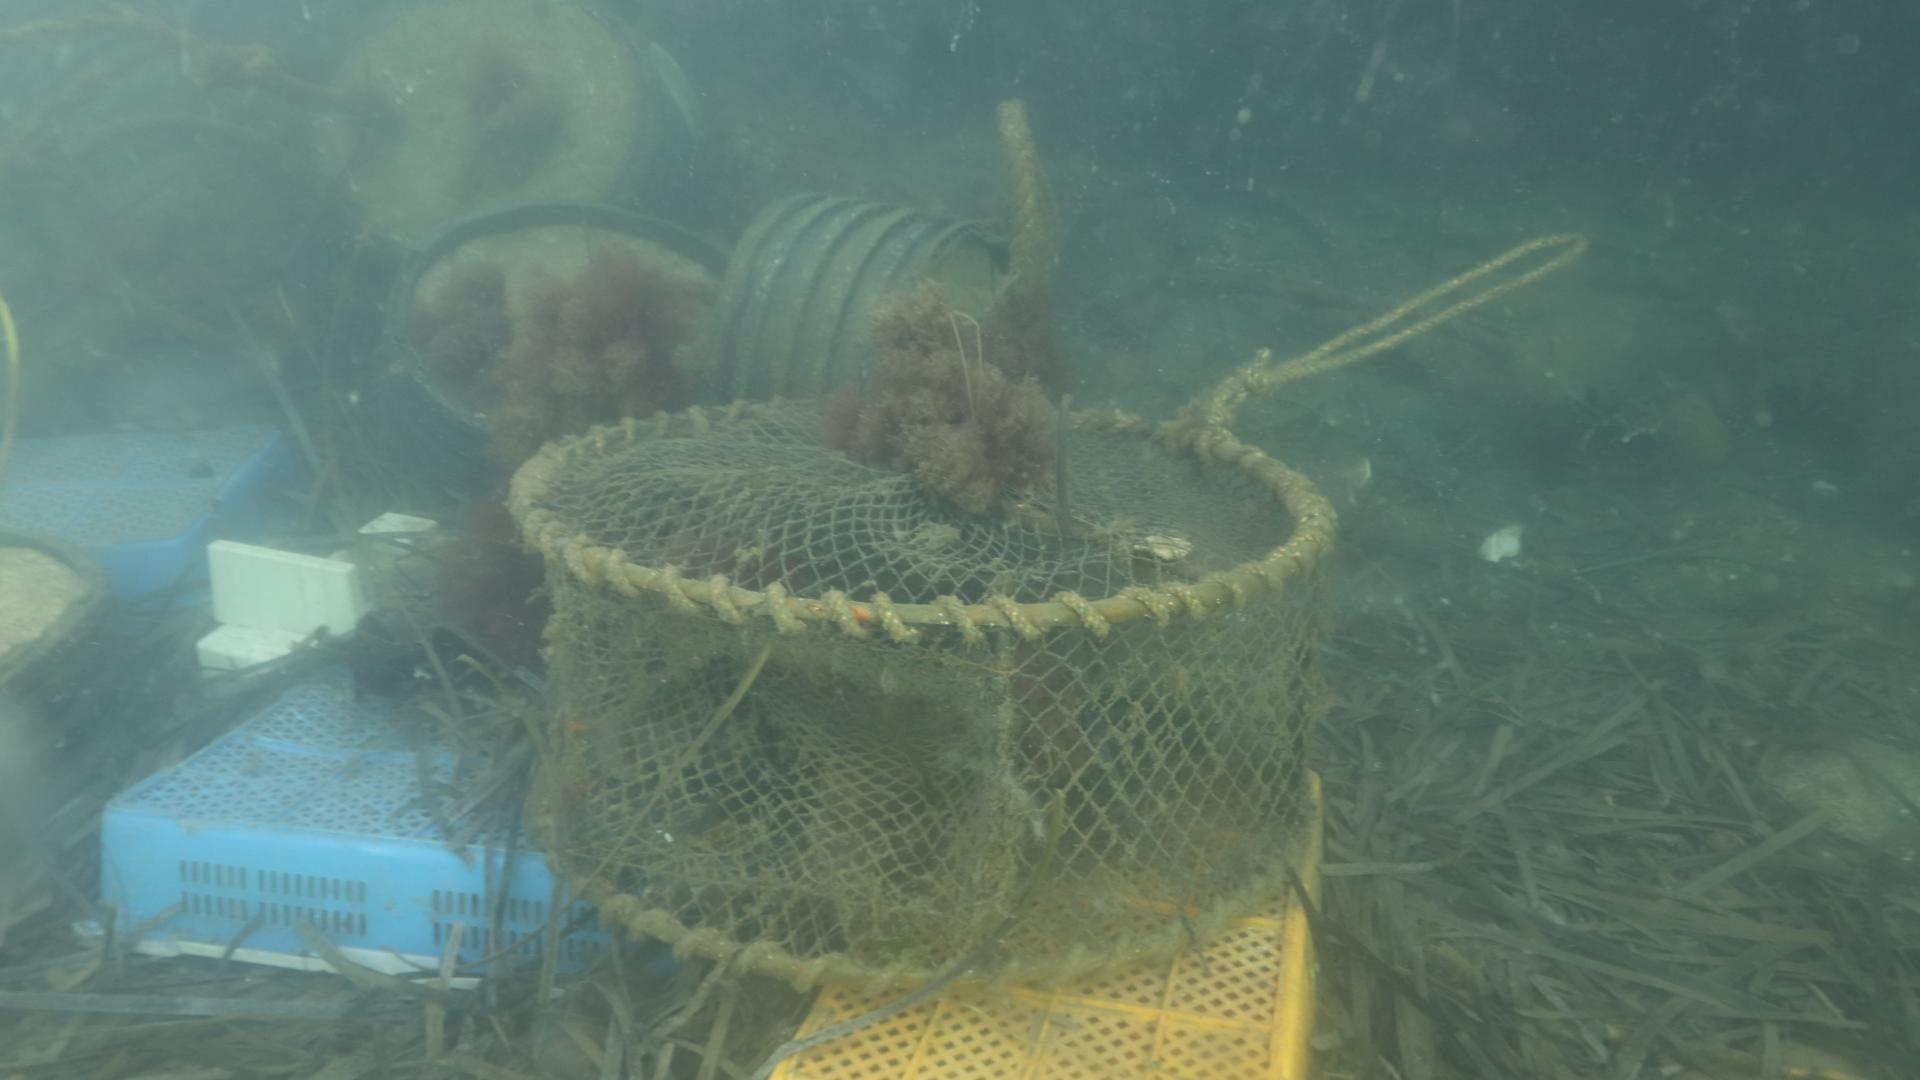bundle of ropes: (1182, 227, 1590, 419)
circular fish trap: (501, 388, 1340, 994)
rope: (992, 95, 1064, 401)
